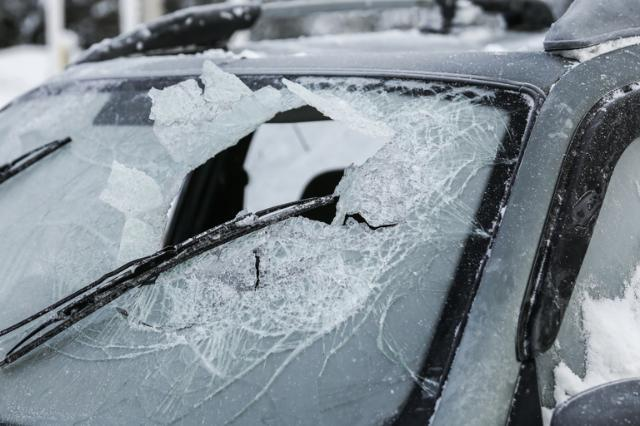Windshield: (11, 79, 470, 426)
